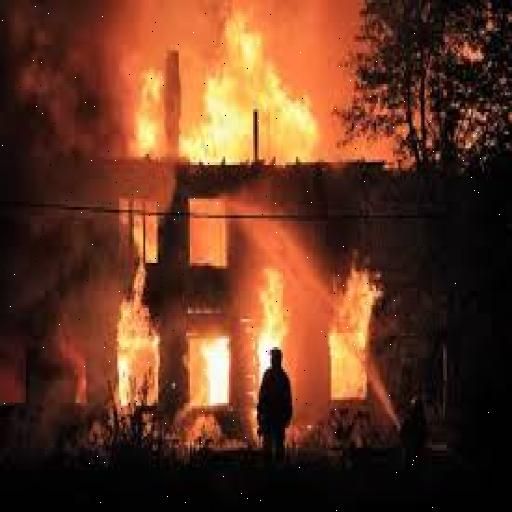fire: (115, 3, 341, 403)
